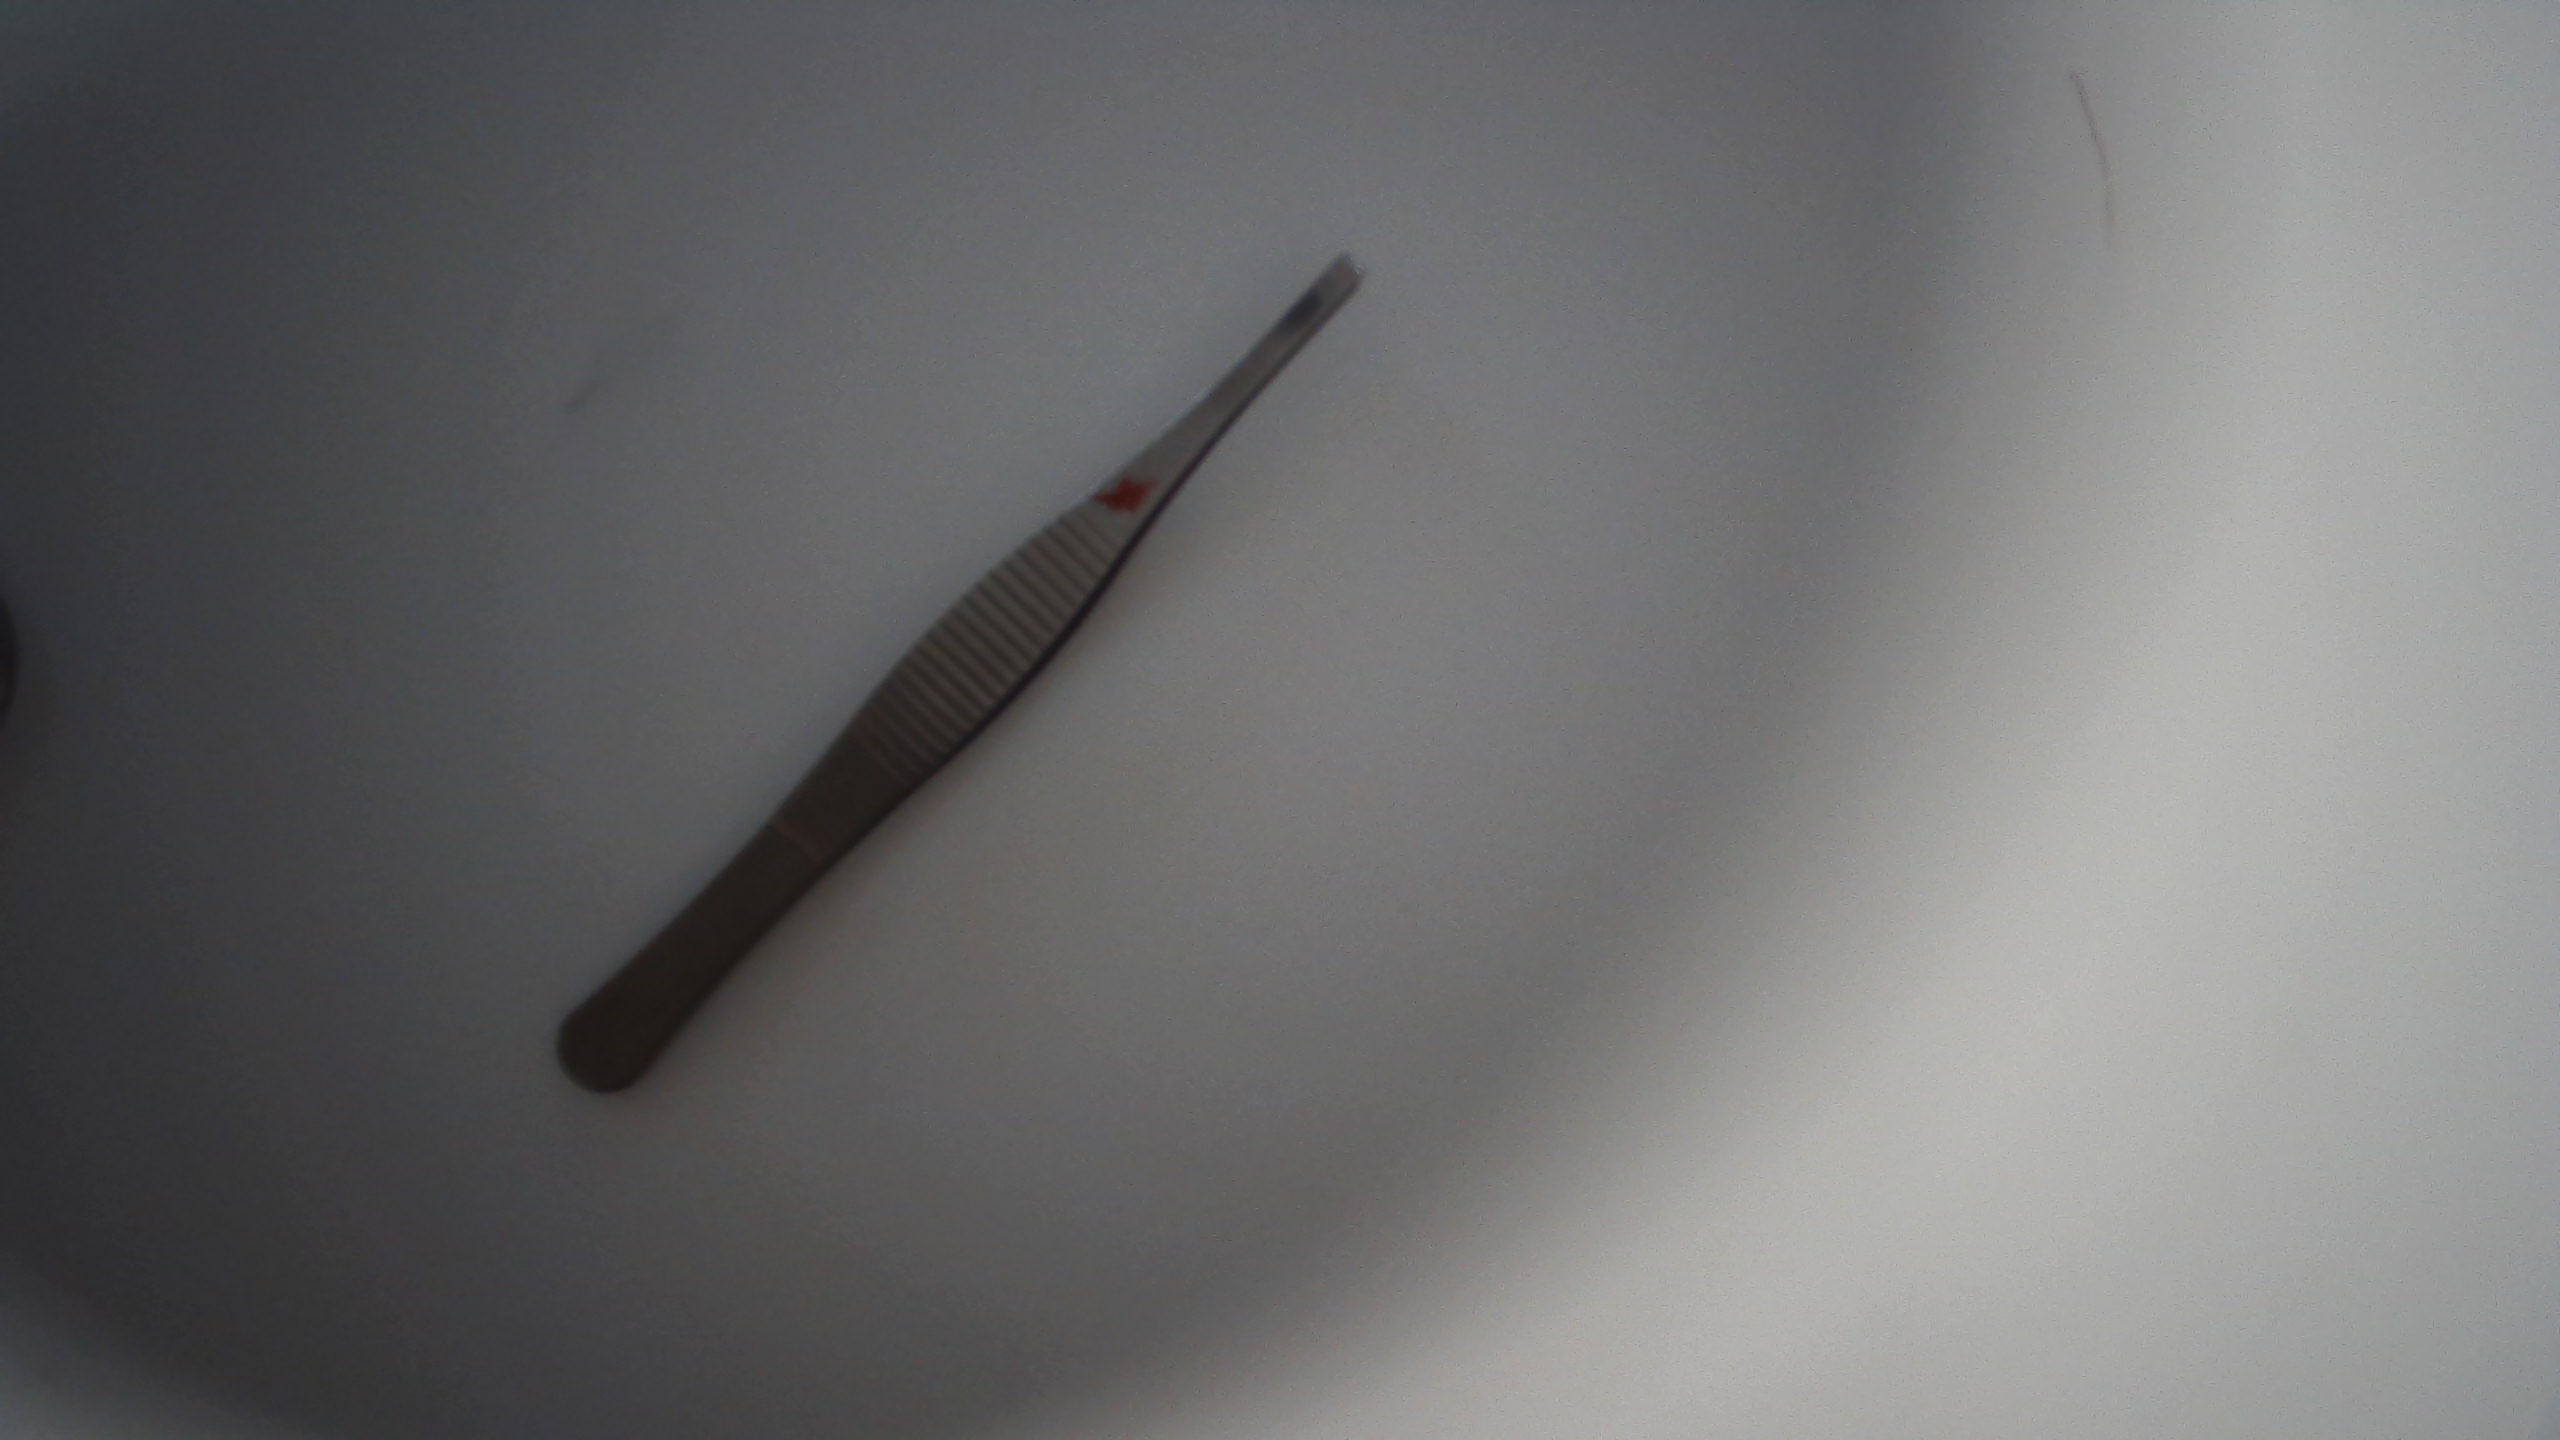Stain: (1088, 471, 1164, 519)
